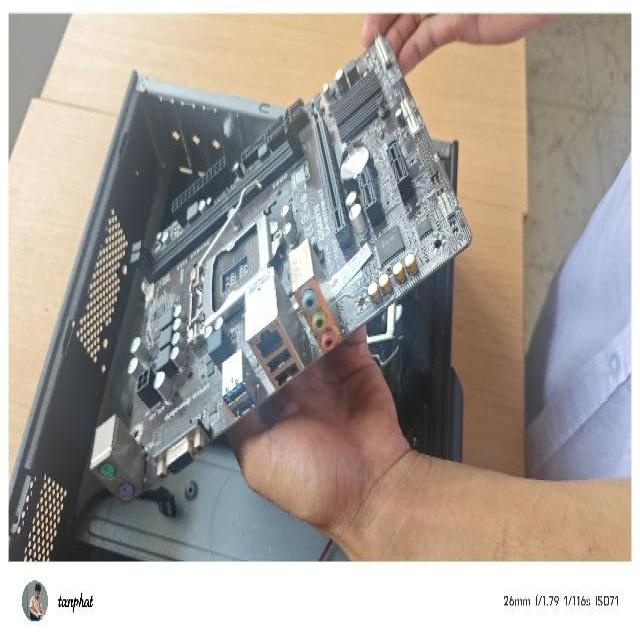Mainboard: (84, 28, 474, 508)
